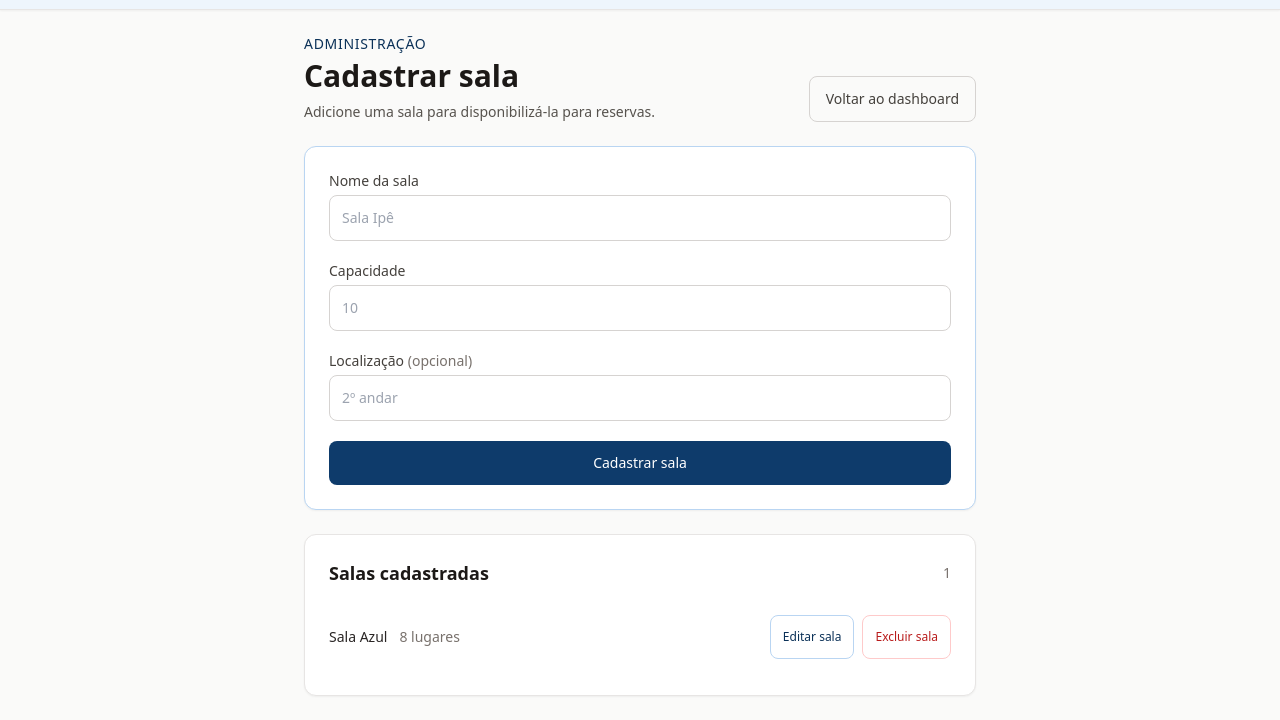
Test case: AdminRoomsPage › clears the edit form after deleting the edited room
(page scrolled)
Click the button "Editar sala".
click(812, 637)  # box [770,615,854,659]
(page scrolled)
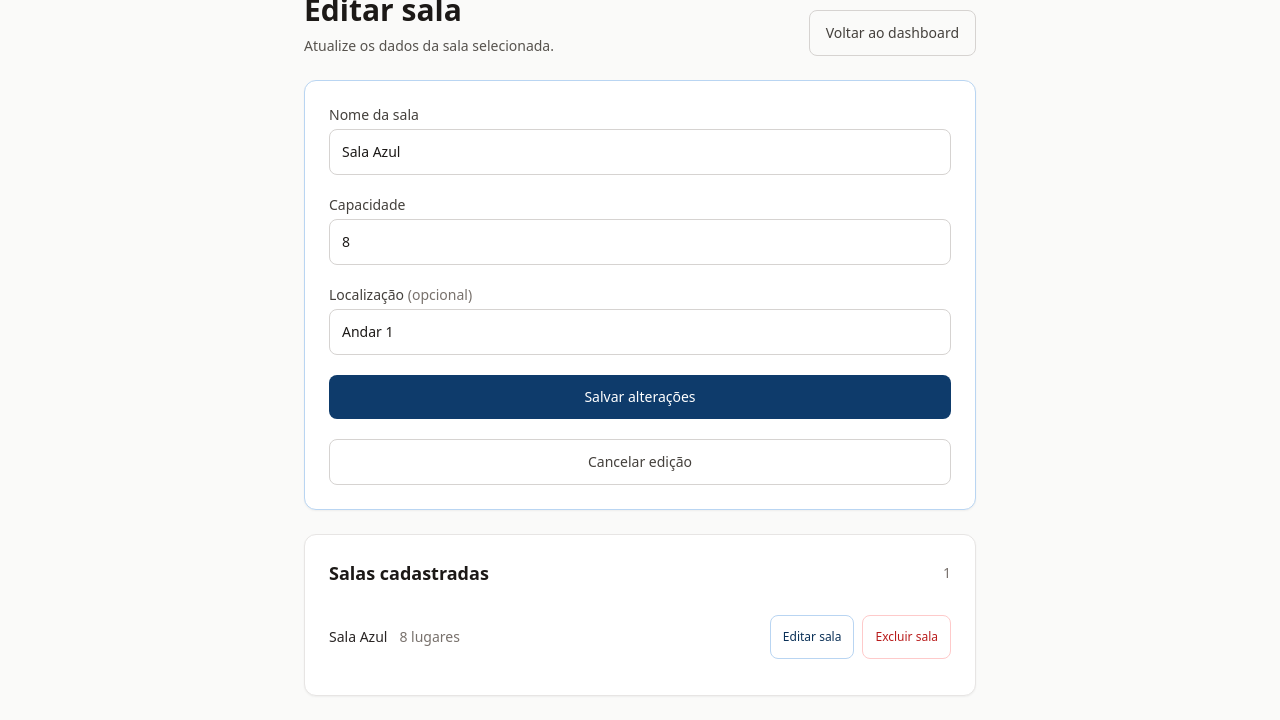
Expected: the field showing "Sala Azul" is shown, [329,129,951,175]
Expected: the number field showing "8" is shown, [329,219,951,265]
Expected: the field showing "Andar 1" is shown, [329,309,951,355]
Click the button "Excluir sala".
click(907, 637)  # box [862,615,951,659]
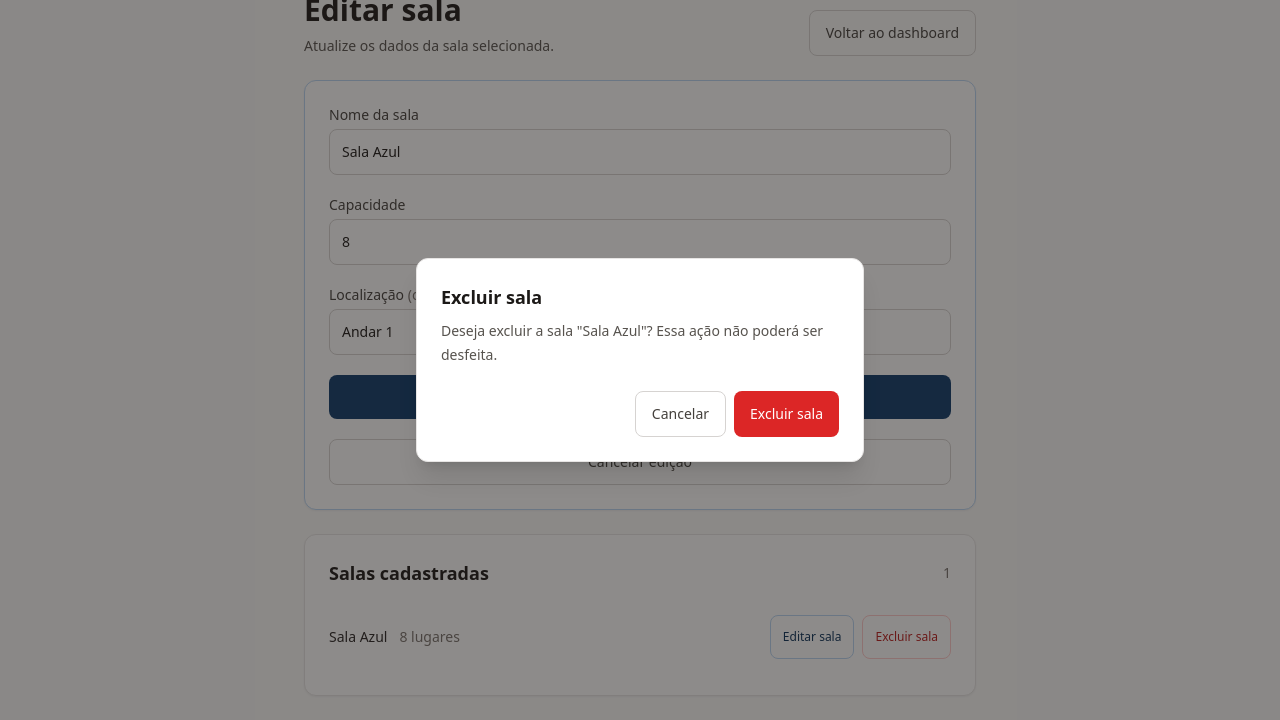
Click the button "Excluir sala".
click(786, 414)  # box [734,391,839,437]
(page scrolled)
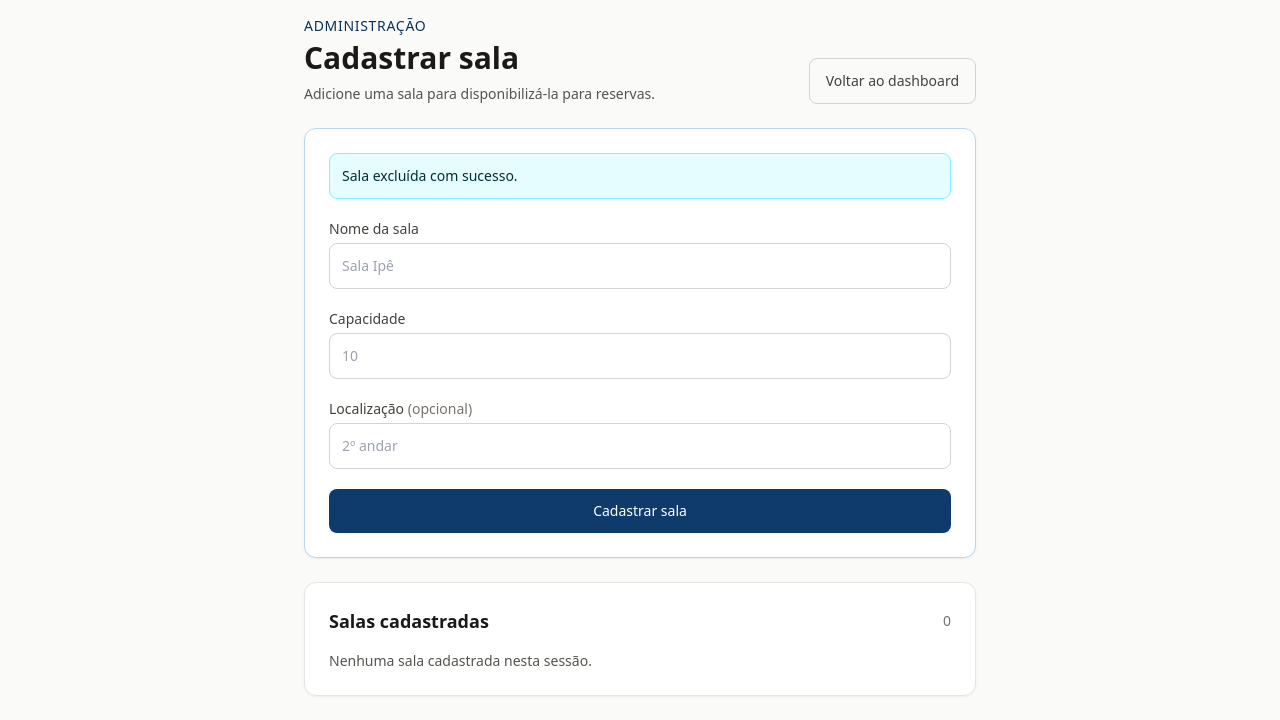
Expected: the heading "Cadastrar sala" is shown, [304,37,519,78]
Expected: the field labelled "Nome da sala" is empty, [329,243,951,289]
Expected: the number field labelled "Capacidade" is not empty, [329,333,951,379]
